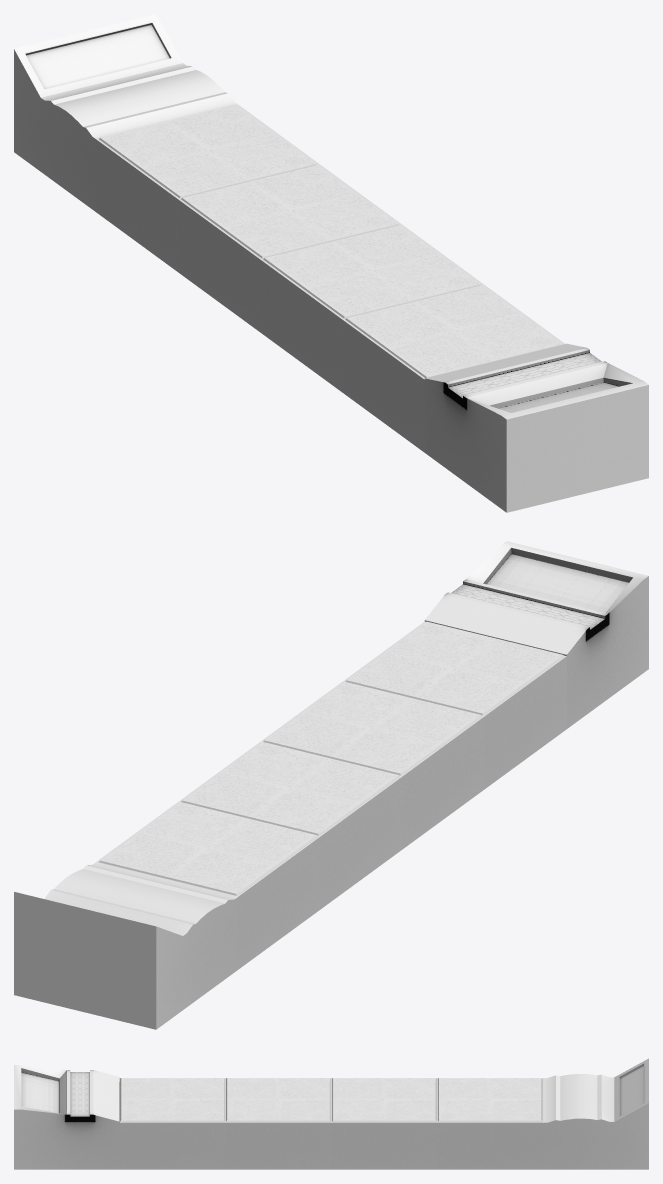
File: WallSolid_1_4.fbx
The picture shows the model from 3 angles, top to bottom: view 1: azimuth 30°, elevation 25°; view 2: azimuth 150°, elevation 25°; view 3: azimuth 270°, elevation 25°; orthographic projection. The views are drawn at different scales.
Parts seen in each view (by area): view 1: Wall_solid_1_4; view 2: Wall_solid_1_4; view 3: Wall_solid_1_4.
Boxes of the visible parts, box(x1,y1,x2,y2) form: Wall_solid_1_4: box(14, 14, 648, 512); Wall_solid_1_4: box(14, 541, 648, 1029); Wall_solid_1_4: box(14, 1058, 648, 1169).
Bounding box in the file's own units: 1 × 0.6947 × 6.
